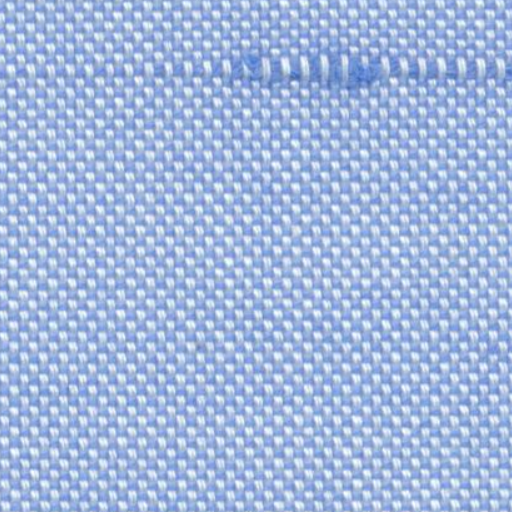DaiSha: (20, 38, 504, 95)
